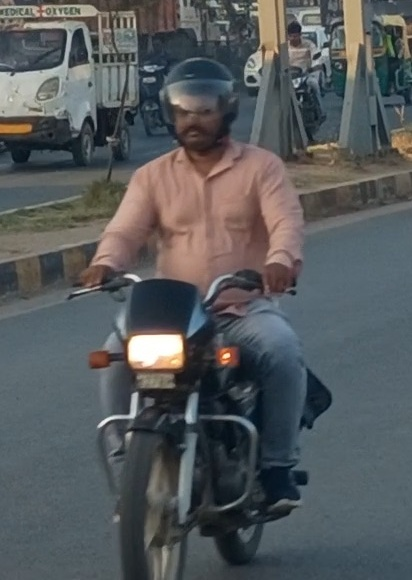BikeWithRider: (57, 49, 339, 580)
Helmet: (154, 50, 247, 158)
